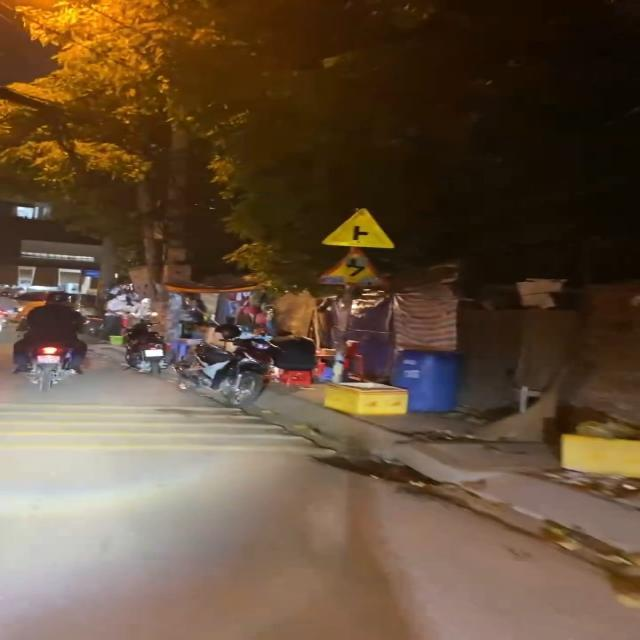201-cho-ngoat-nguy-hiem: (318, 248, 390, 290)
205-duong-giao-nhau: (321, 206, 395, 250)
